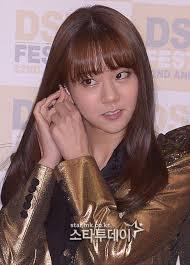earphone: (62, 83, 71, 96)
